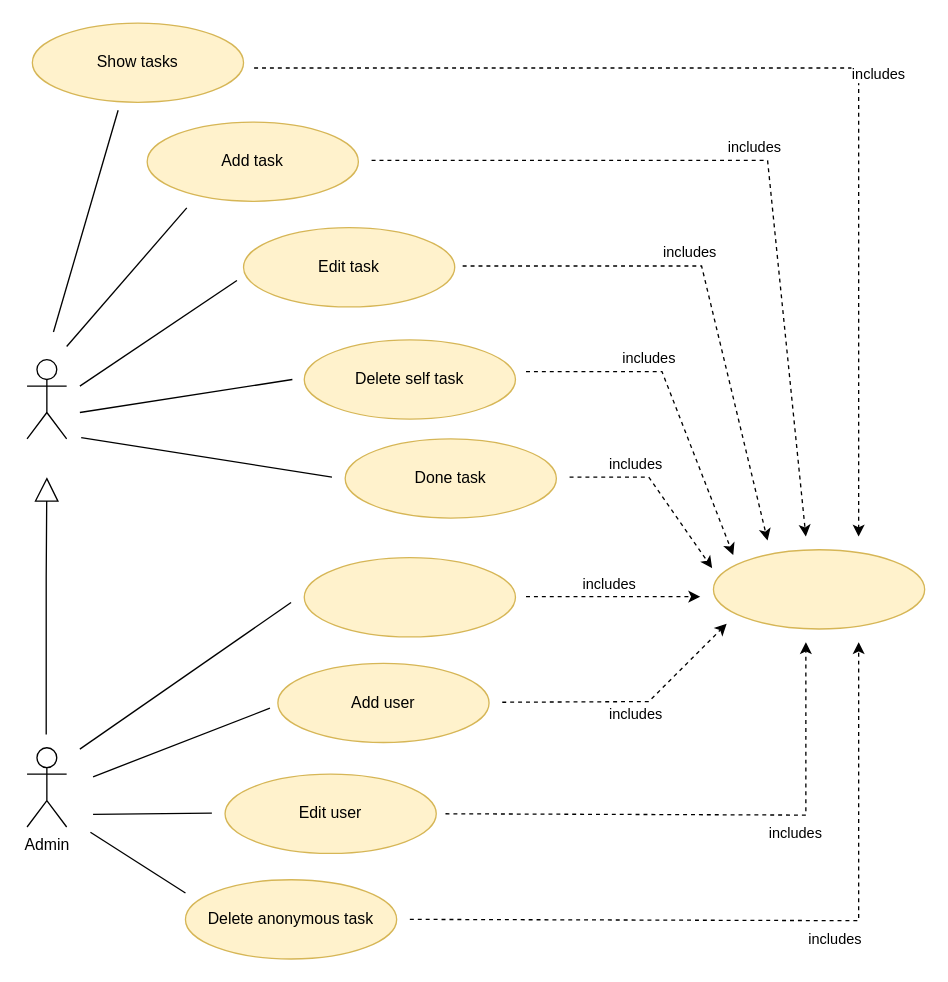
Image size: 948x982. Some labels were removed from this diagram. The centre of each missing label's shape, as x and y in pixels:
Authenticated: [818,588]
Show users: [409,596]
User: [46,398]
